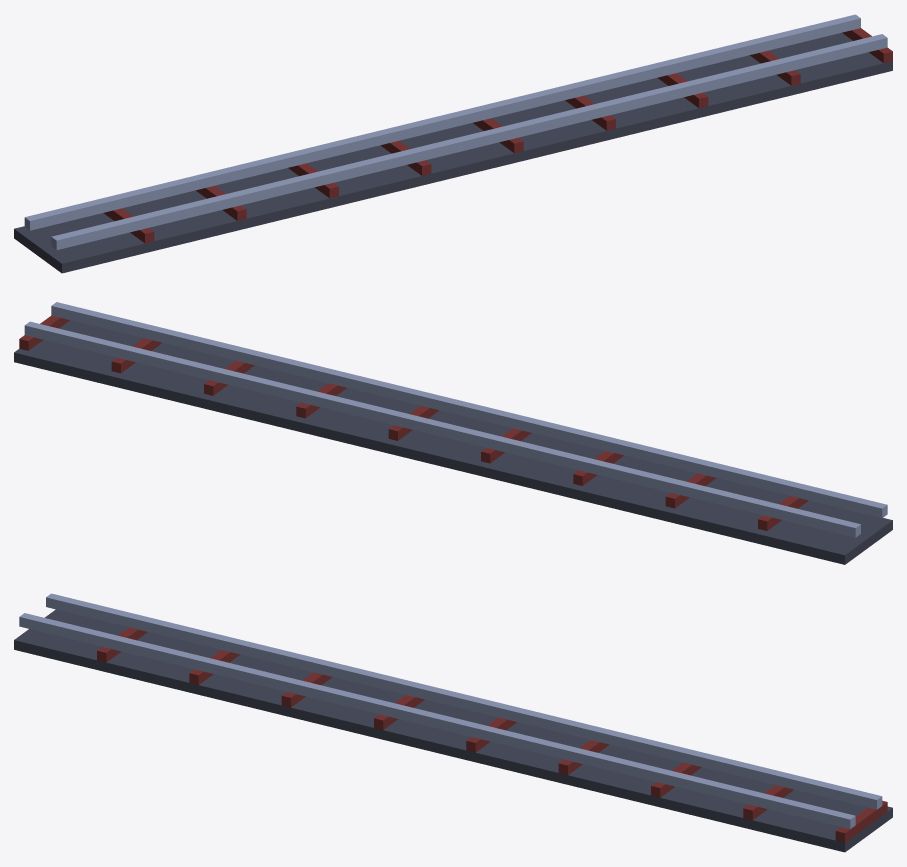
Rendered from Railway.obj.
The picture shows the model from 3 angles, top to bottom: view 1: azimuth 30°, elevation 25°; view 2: azimuth 150°, elevation 25°; view 3: azimuth 330°, elevation 25°; orthographic projection.
Visible parts, largest first — view 1: Railway; view 2: Railway; view 3: Railway.
Part boxes in pixels (x1,y1,x2,y2): Railway: (14,14,892,273); Railway: (14,302,892,564); Railway: (14,593,892,852).
Bounding box in the file's own units: 9 × 0.3 × 0.9.
Materials: 1 (1 with a texture image).
